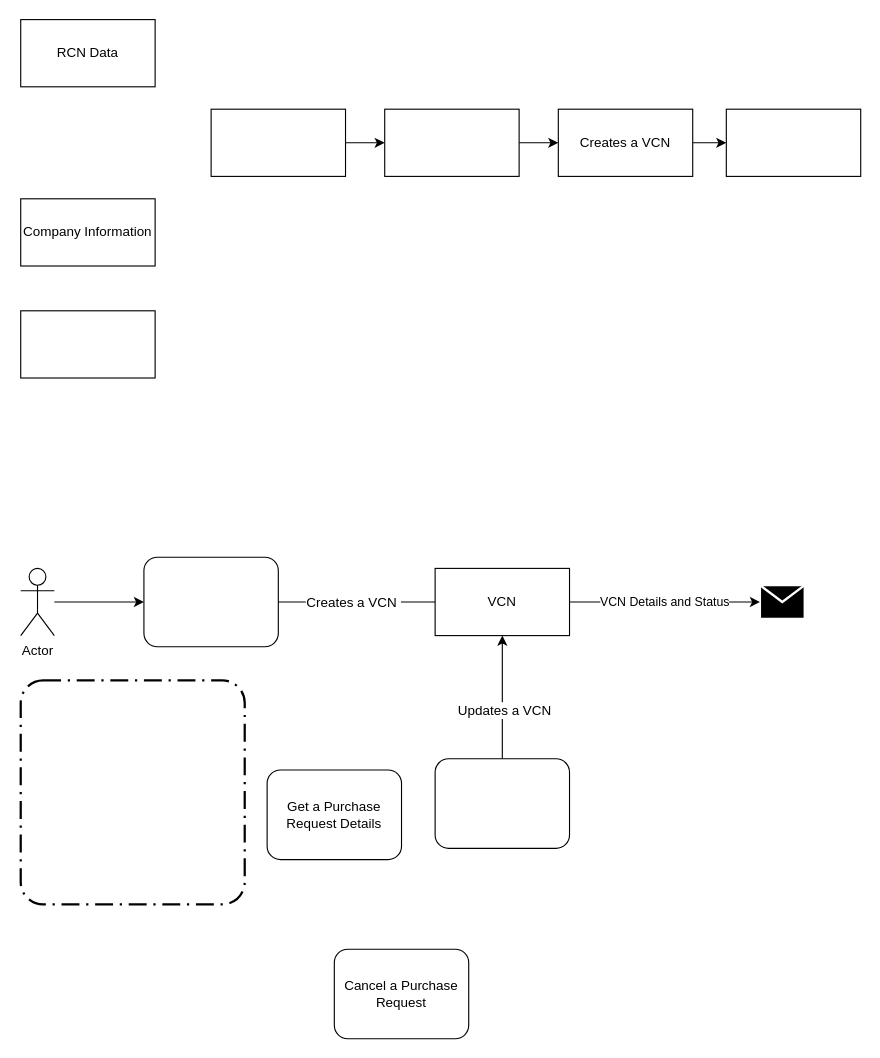
Some shapes in this 880 by 1058 pixel diagram are drawn without their labels. Each missing label, with the centre of its shape:
Emails VCN Details: the point at 793,142
Purchase Request: the point at 451,142
SumbitPurchase Request: the point at 210,601
Update a Purchase Request: the point at 502,803
